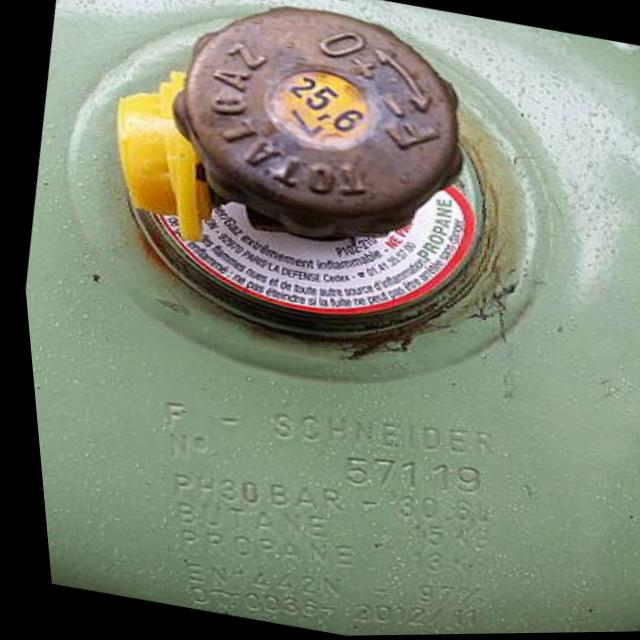ocr: (257, 409, 501, 471), (165, 524, 361, 573), (159, 469, 349, 519), (319, 447, 491, 500), (161, 498, 325, 548), (169, 557, 350, 600), (170, 584, 333, 625), (330, 596, 488, 636), (394, 524, 501, 561), (386, 494, 491, 529), (394, 552, 487, 582), (140, 383, 192, 434), (398, 580, 479, 610), (150, 429, 208, 465)
